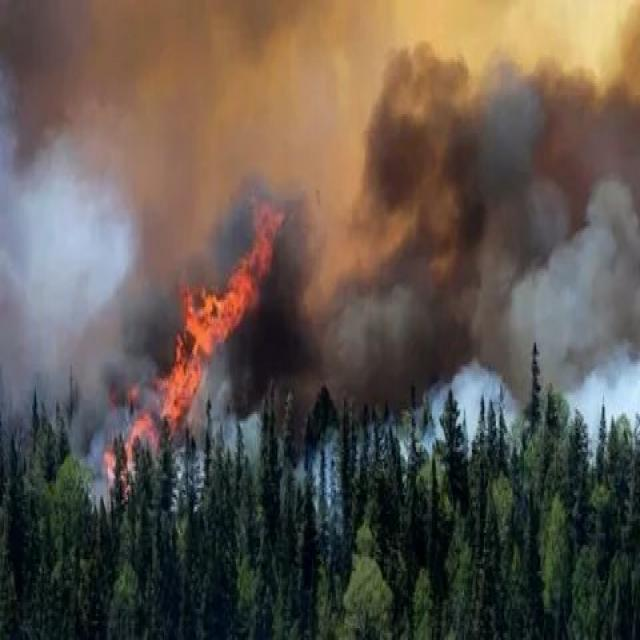Fire: (105, 184, 296, 497)
Smoke: (323, 0, 640, 481)
